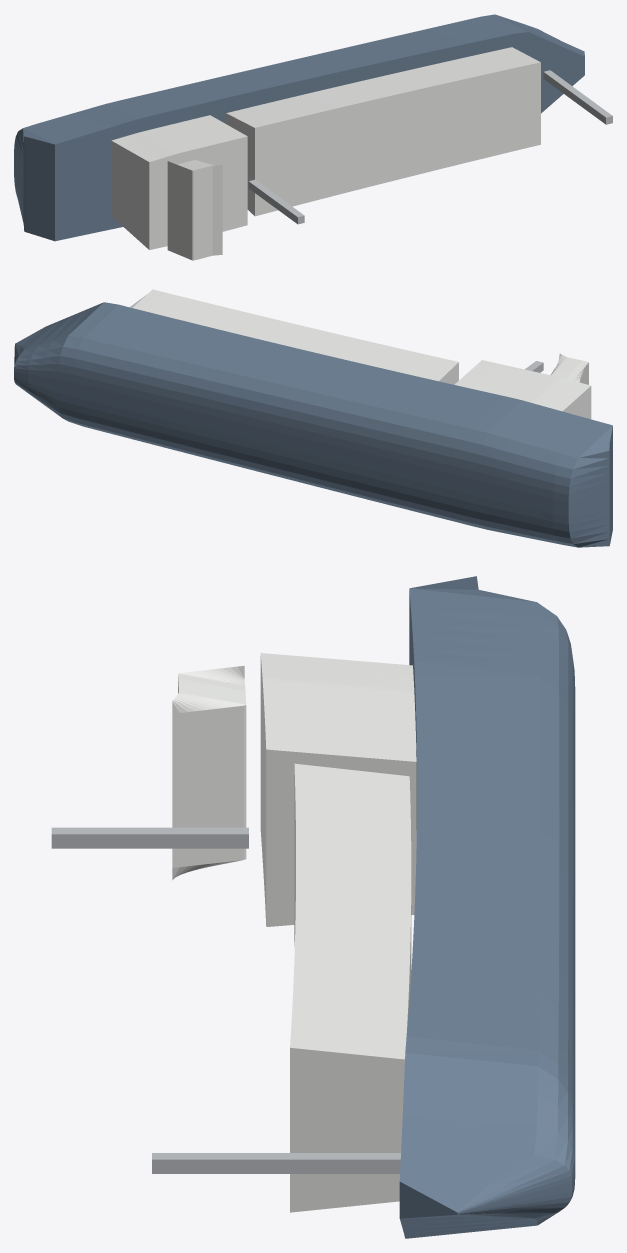
File: loft-container-ship-slender.glb
3 renders of one model, top to bottom at view 1: azimuth 30°, elevation 25°; view 2: azimuth 150°, elevation 25°; view 3: azimuth 270°, elevation 25°, orthographic. The views are drawn at different scales.
Parts seen in each view (by area): view 1: loft-container-ship-slender; view 2: loft-container-ship-slender; view 3: loft-container-ship-slender.
Boxes of the visible parts, <box> form: loft-container-ship-slender: <box>14,14,612,260</box>; loft-container-ship-slender: <box>14,289,612,547</box>; loft-container-ship-slender: <box>51,576,575,1238</box>.
Size of the model in its own units: 1.95 by 0.3512 by 0.7956.
